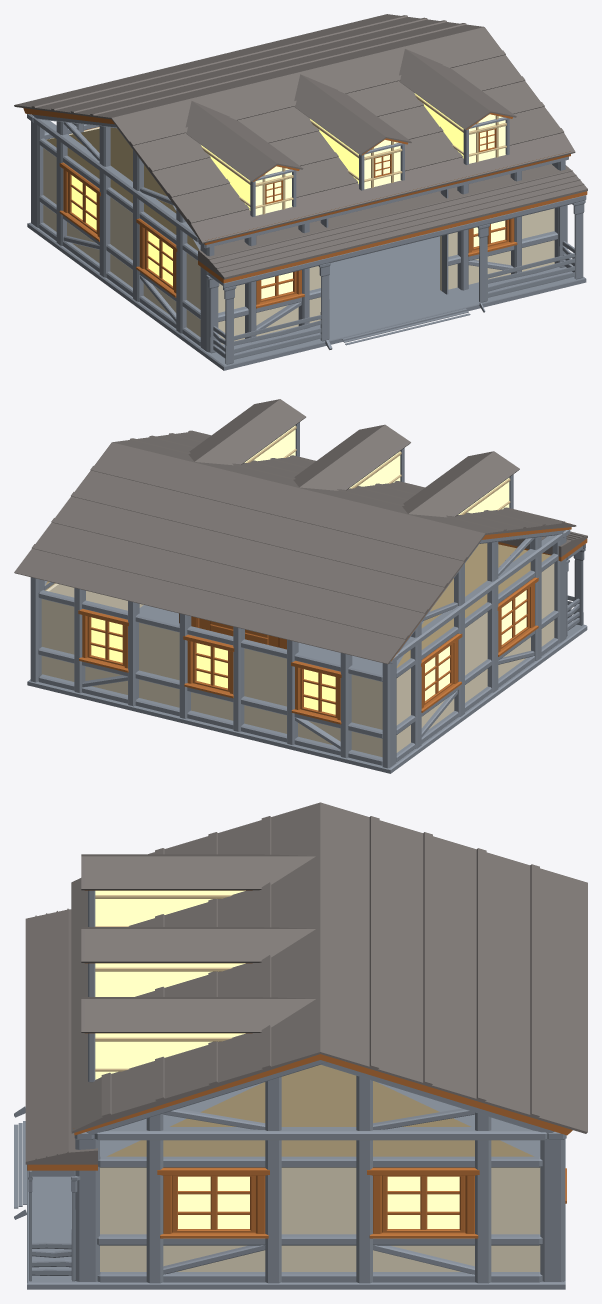
Rendered from cottage_walkin_a.glb.
The picture shows the model from 3 angles, top to bottom: view 1: azimuth 30°, elevation 25°; view 2: azimuth 150°, elevation 25°; view 3: azimuth 270°, elevation 25°; orthographic projection. The views are drawn at different scales.
Parts seen in each view (by area): view 1: Roof_Cutaway, Walls_Static, Walls_Front; view 2: Roof_Cutaway, Walls_Static, Walls_Front, Door_Panel; view 3: Roof_Cutaway, Walls_Static, Walls_Front.
Boxes of the visible parts, x1,y1,x2,y2 form: Roof_Cutaway: [14, 14, 587, 283]; Walls_Static: [27, 127, 586, 370]; Walls_Front: [200, 195, 586, 364]; Roof_Cutaway: [14, 399, 587, 685]; Walls_Static: [27, 563, 587, 773]; Walls_Front: [554, 544, 585, 643]; Door_Panel: [179, 613, 286, 649]; Roof_Cutaway: [25, 802, 587, 1170]; Walls_Static: [14, 1082, 566, 1289]; Walls_Front: [14, 1106, 99, 1281].
Size of the model in its own units: 15.32 by 6.94 by 14.89.
